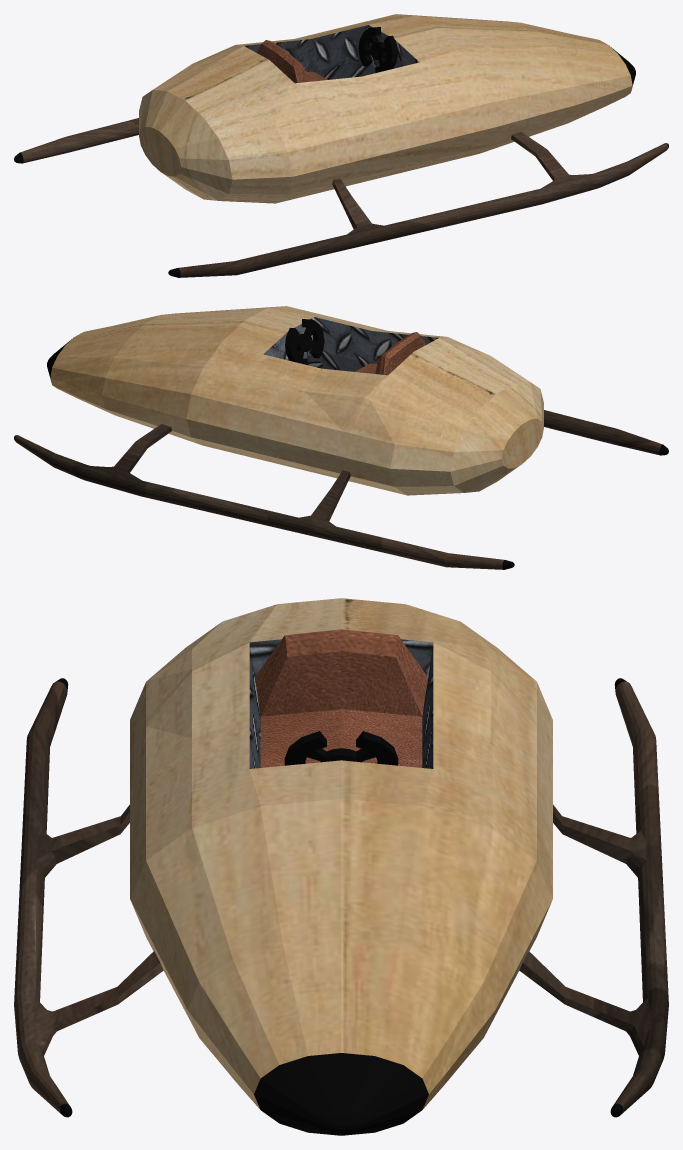
The model's file is kart23.obj.
3 views of the same model, one above another, from view 1: azimuth 30°, elevation 25°; view 2: azimuth 150°, elevation 25°; view 3: azimuth 270°, elevation 25° (orthographic). The views are drawn at different scales.
Visible parts, largest first — view 1: Cylinder; view 2: Cylinder; view 3: Cylinder.
Part boxes in pixels (left/top/right/bottom): Cylinder: left=14, top=14, right=668, bottom=277; Cylinder: left=14, top=306, right=668, bottom=569; Cylinder: left=14, top=598, right=668, bottom=1135.
Bounding box in the file's own units: 5.3 × 1.25 × 3.1.
